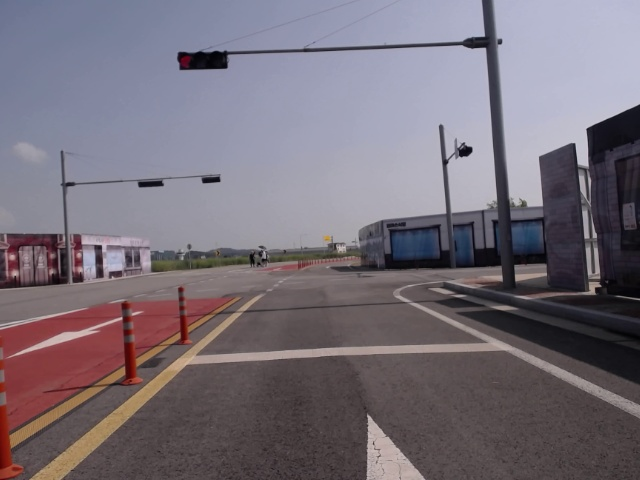red_3: (175, 52, 227, 69)
